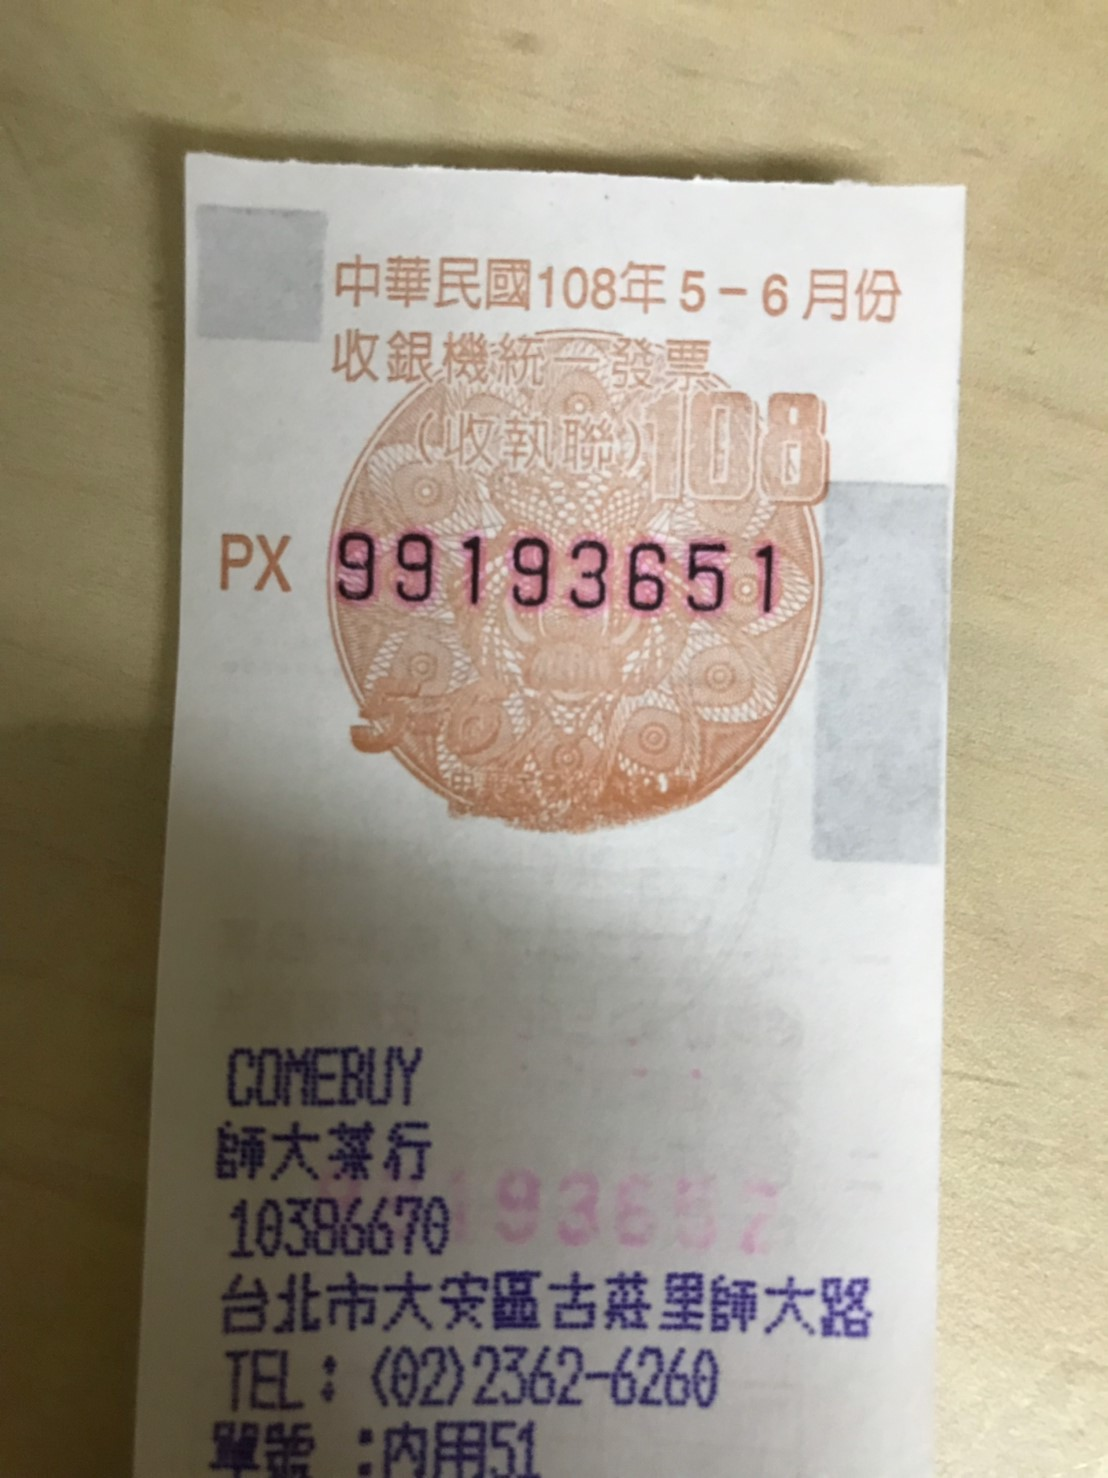Date_Old: (538, 254, 911, 329)
Number_Old: (335, 527, 783, 620)
